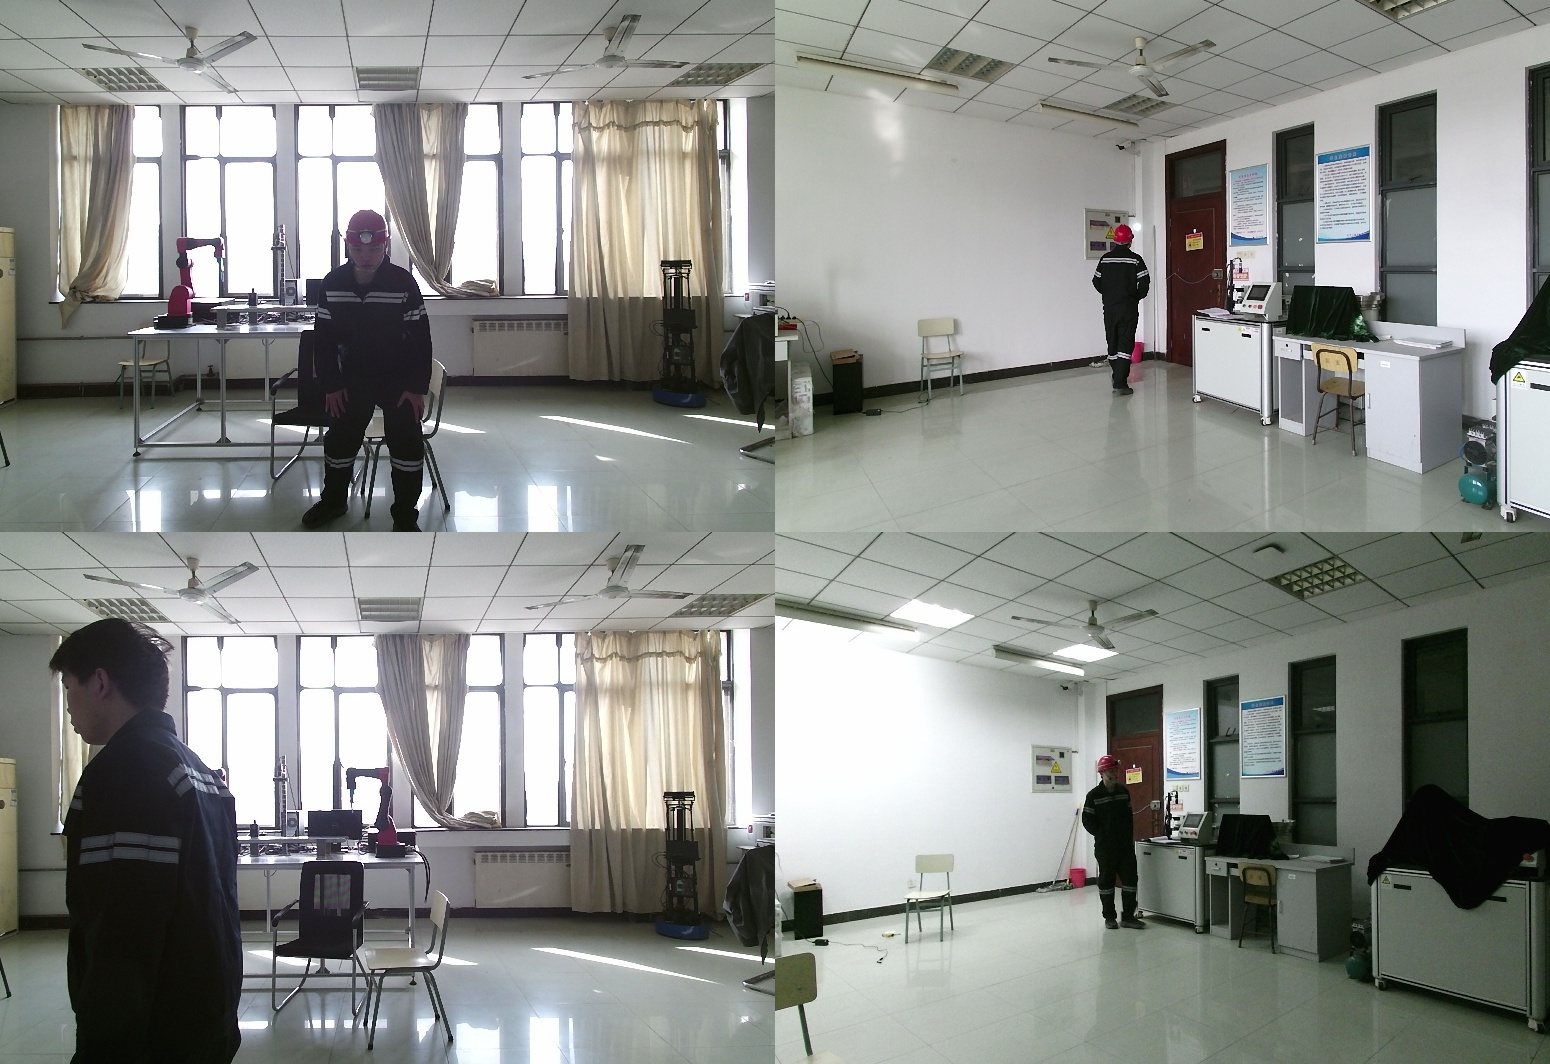person: (44, 617, 254, 1064), (308, 211, 451, 532), (1089, 226, 1154, 405), (1080, 758, 1140, 934)
